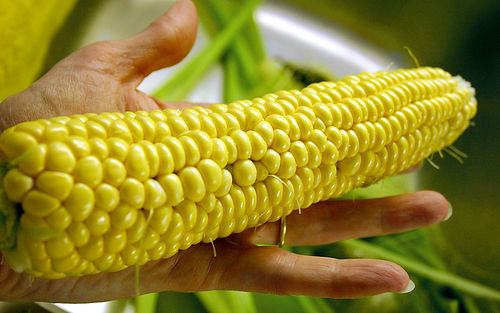corn: (0, 66, 479, 281)
